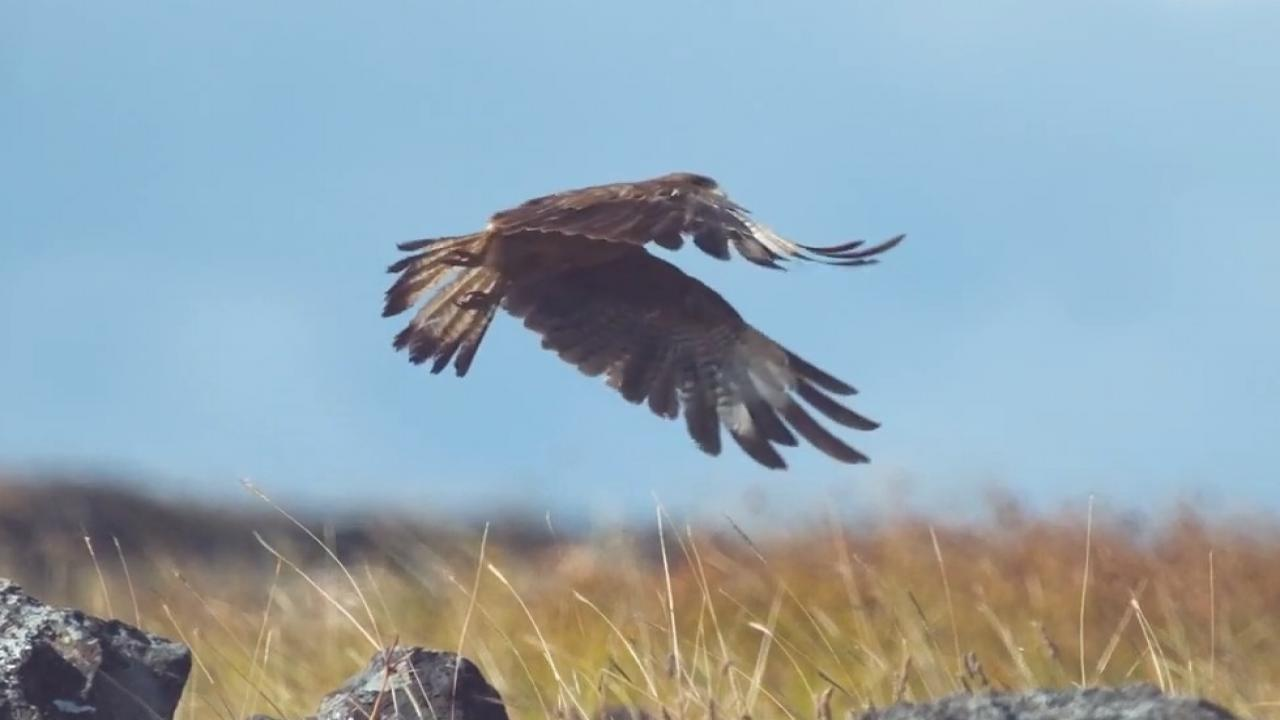Bird: (364, 160, 914, 482)
